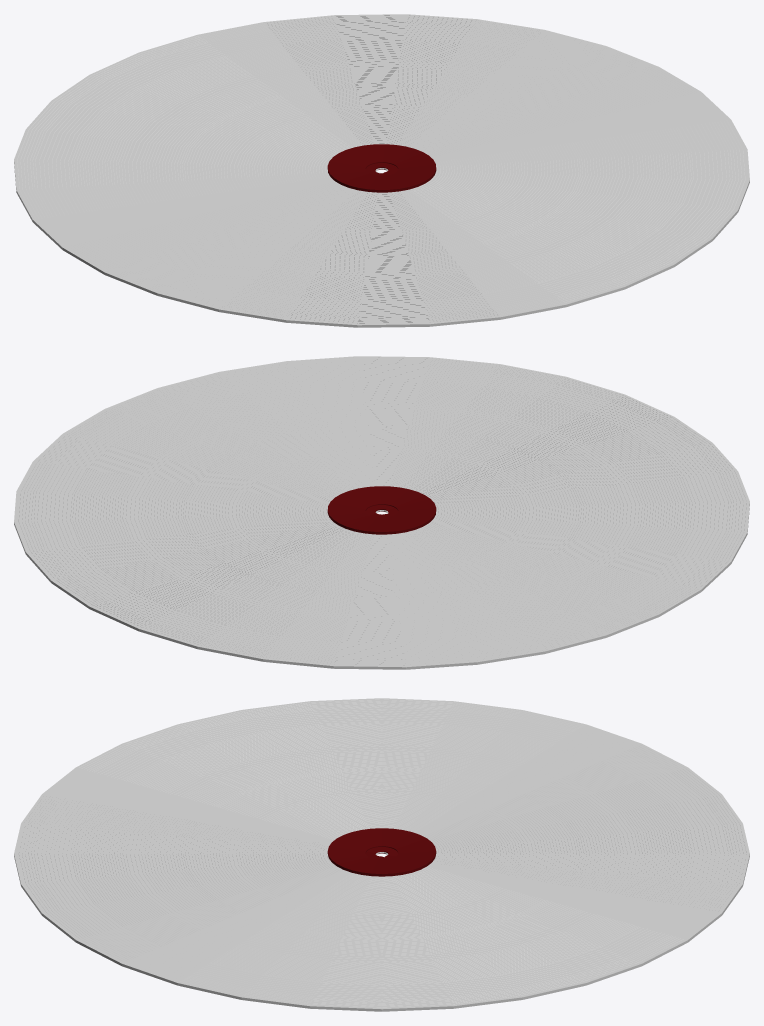
Rendered from Disco_Vinil.fbx.
3 views of the same model, one above another, from view 1: azimuth 30°, elevation 25°; view 2: azimuth 150°, elevation 25°; view 3: azimuth 270°, elevation 25° (orthographic).
Parts seen in each view (by area): view 1: Cylinder.003; view 2: Cylinder.003; view 3: Cylinder.003.
Part boxes in pixels (x1=…): Cylinder.003: x1=14, y1=14, x2=749, y2=327; Cylinder.003: x1=14, y1=356, x2=749, y2=669; Cylinder.003: x1=14, y1=698, x2=749, y2=1011.
Bounding box in the file's own units: 13871 × 155 × 13871.
